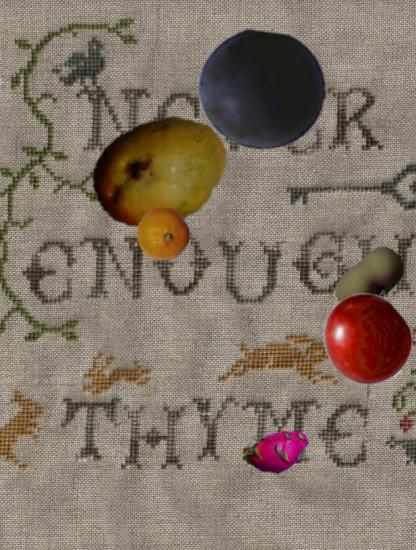Cherry: (320, 293, 414, 387)
Grape: (197, 26, 326, 155)
Lemon: (137, 207, 191, 261)
Papaya: (90, 102, 232, 244)
Peach: (332, 242, 410, 320)
Pitahaya: (243, 419, 309, 485)
